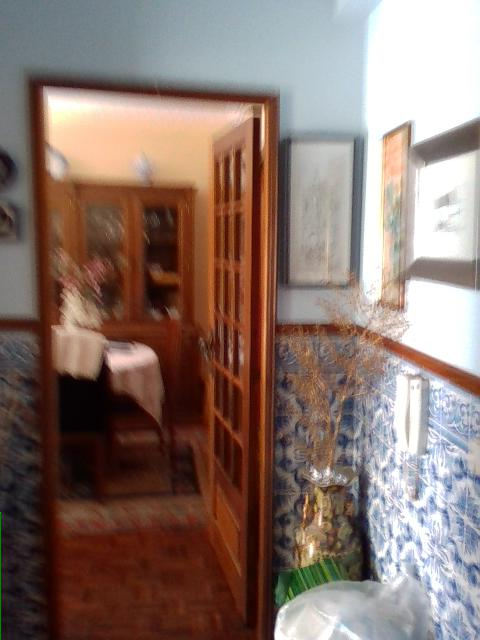door: (198, 103, 260, 626)
